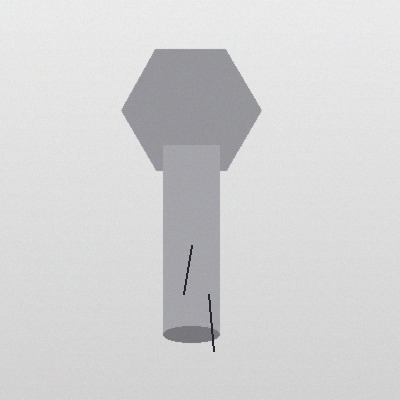scratch: (177, 241, 197, 298), (202, 290, 219, 355)
